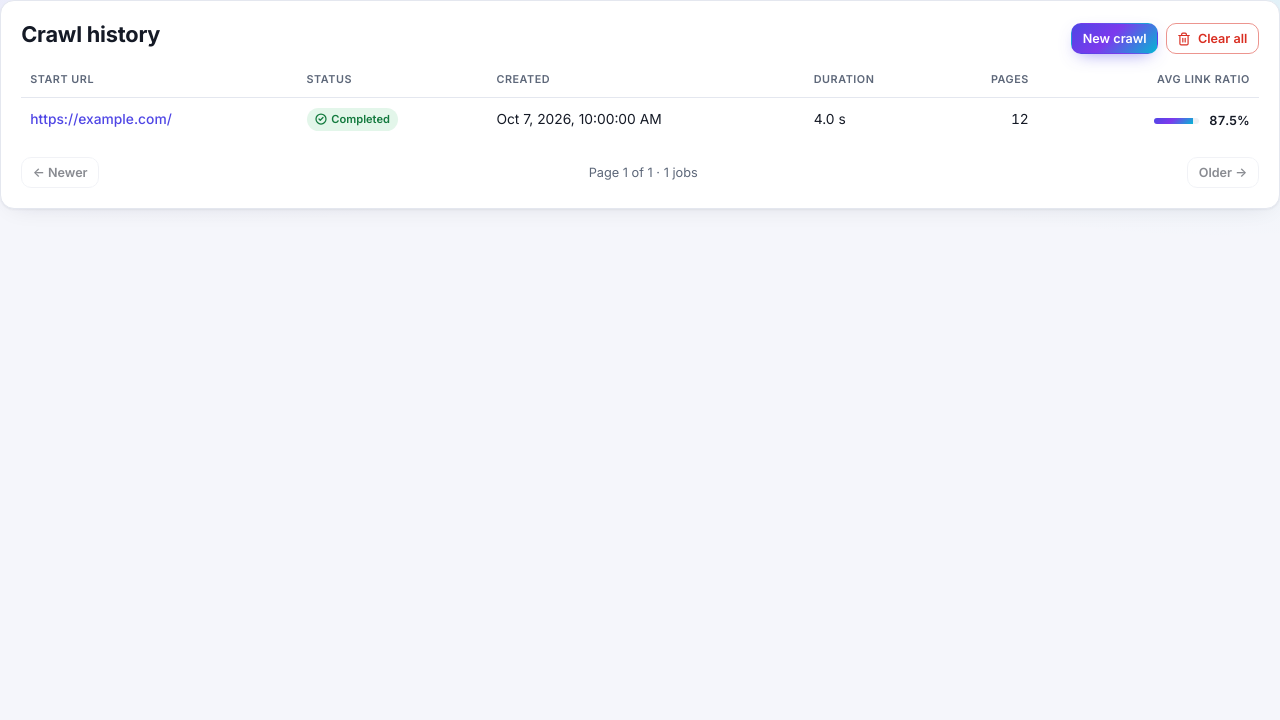
Test case: HistoryPage › shows the error inside the dialog when clearing fails
Expected: the link "https://example.com/" is shown, [30,111,172,127]
Click the button "Clear all". click: click(1212, 39)
box: [1166,23,1259,54]
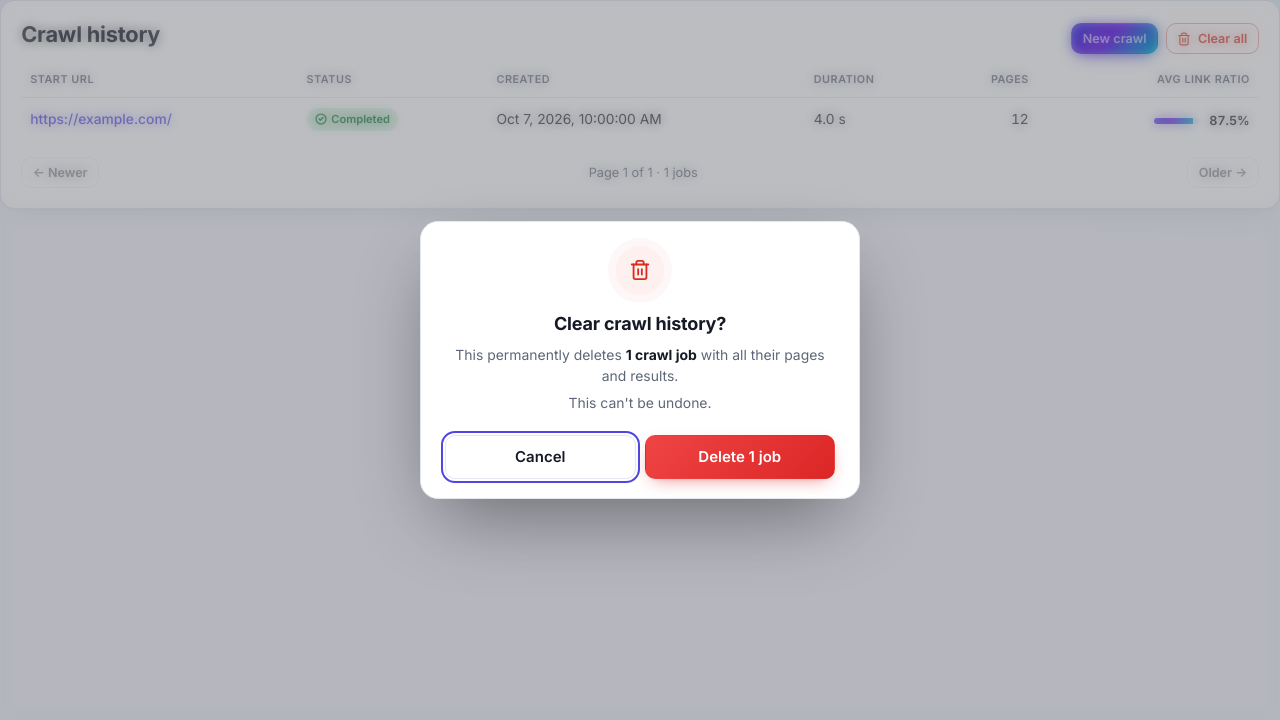
Click the button "Delete 1 job". click: click(740, 457)
box: [644,435,835,479]
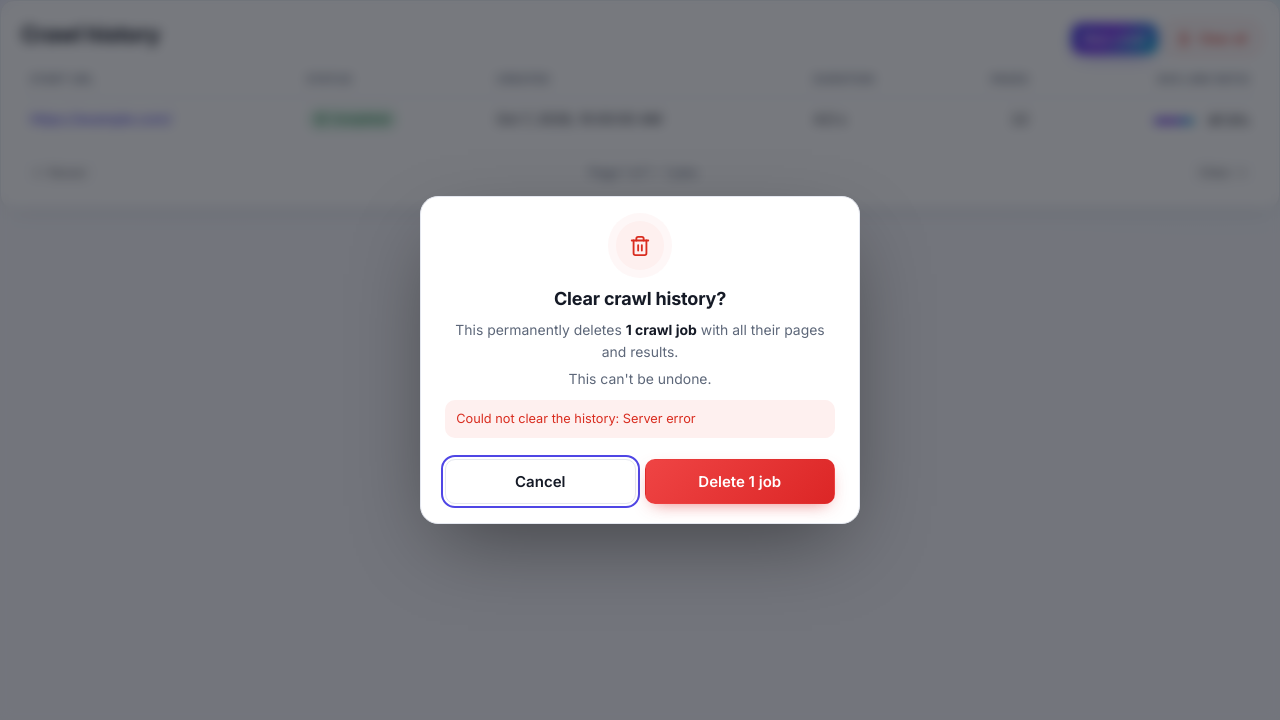
Now the message reads "Could not clear the history: Server error", box [456,411,696,426]
